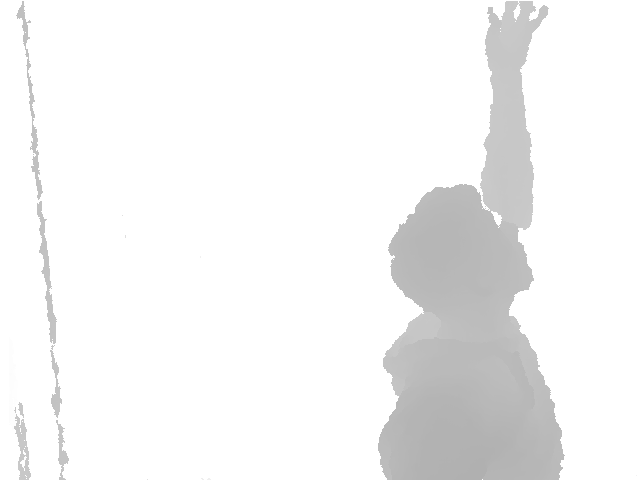hand: (484, 1, 550, 74)
head: (389, 184, 534, 318)
person: (377, 1, 566, 480)
